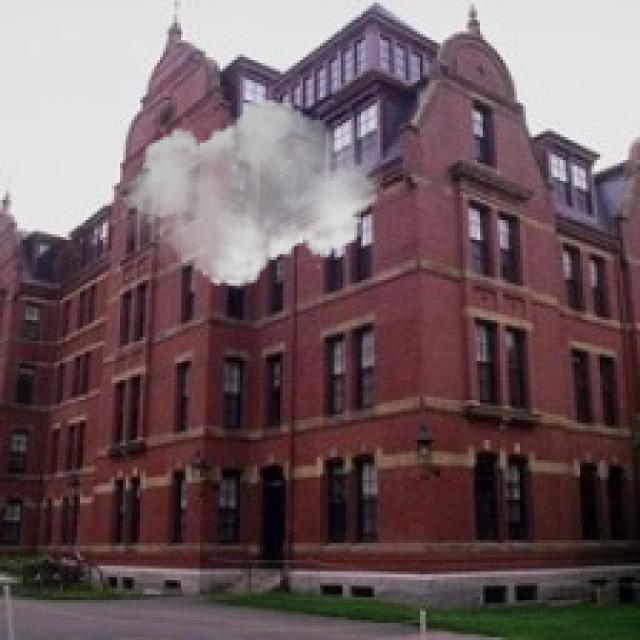Smoke: (120, 92, 383, 294)
